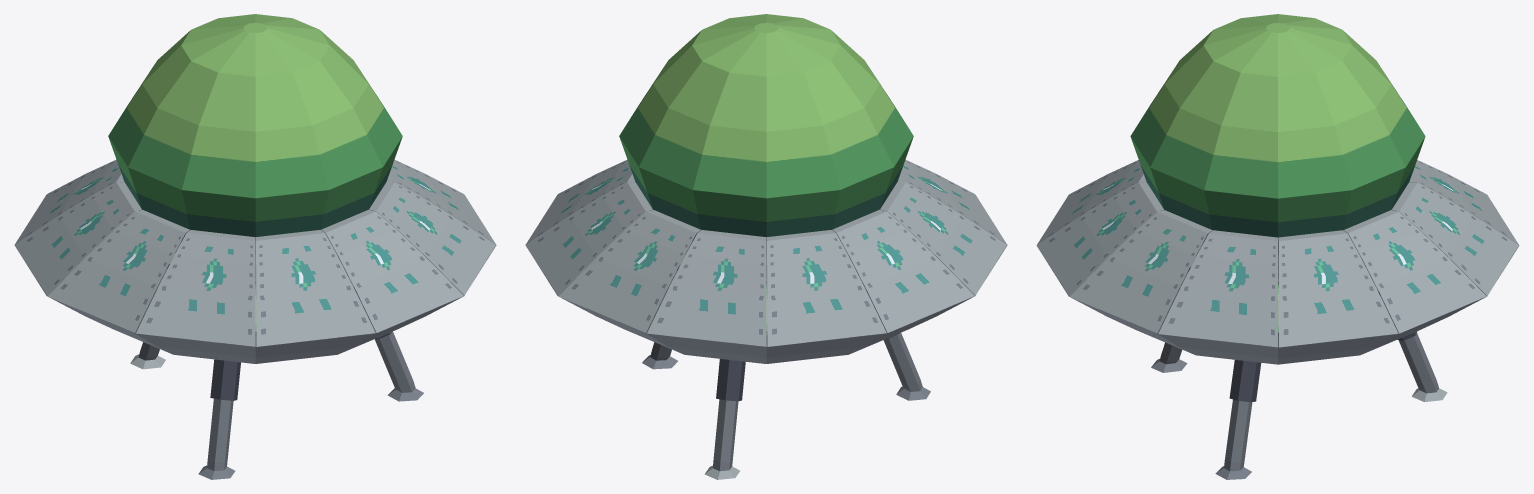
Rendered from Ovni.fbx.
The picture shows the model from 3 angles, left to right: view 1: azimuth 30°, elevation 25°; view 2: azimuth 150°, elevation 25°; view 3: azimuth 270°, elevation 25°; orthographic projection.
Visible parts, largest first — view 1: OvniCuerpo, Capsula, Pata2, Pata3, Pata1; view 2: OvniCuerpo, Capsula, Pata1, Pata2, Pata3; view 3: OvniCuerpo, Capsula, Pata3, Pata1, Pata2.
Boxes of the visible parts, x1=… form: OvniCuerpo: x1=14, y1=159, x2=496, y2=363; Capsula: x1=108, y1=14, x2=402, y2=236; Pata2: x1=198, y1=359, x2=240, y2=479; Pata3: x1=352, y1=283, x2=423, y2=401; Pata1: x1=130, y1=253, x2=174, y2=369; OvniCuerpo: x1=525, y1=159, x2=1007, y2=363; Capsula: x1=619, y1=14, x2=913, y2=236; Pata1: x1=704, y1=359, x2=745, y2=479; Pata2: x1=861, y1=280, x2=930, y2=400; Pata3: x1=642, y1=255, x2=684, y2=369; OvniCuerpo: x1=1036, y1=160, x2=1519, y2=364; Capsula: x1=1130, y1=14, x2=1425, y2=237; Pata3: x1=1215, y1=360, x2=1261, y2=479; Pata1: x1=1376, y1=286, x2=1447, y2=402; Pata2: x1=1151, y1=256, x2=1195, y2=372.
Size of the model in its own units: 3592 by 3592 by 3143.
Materials: 3 (3 with a texture image).
